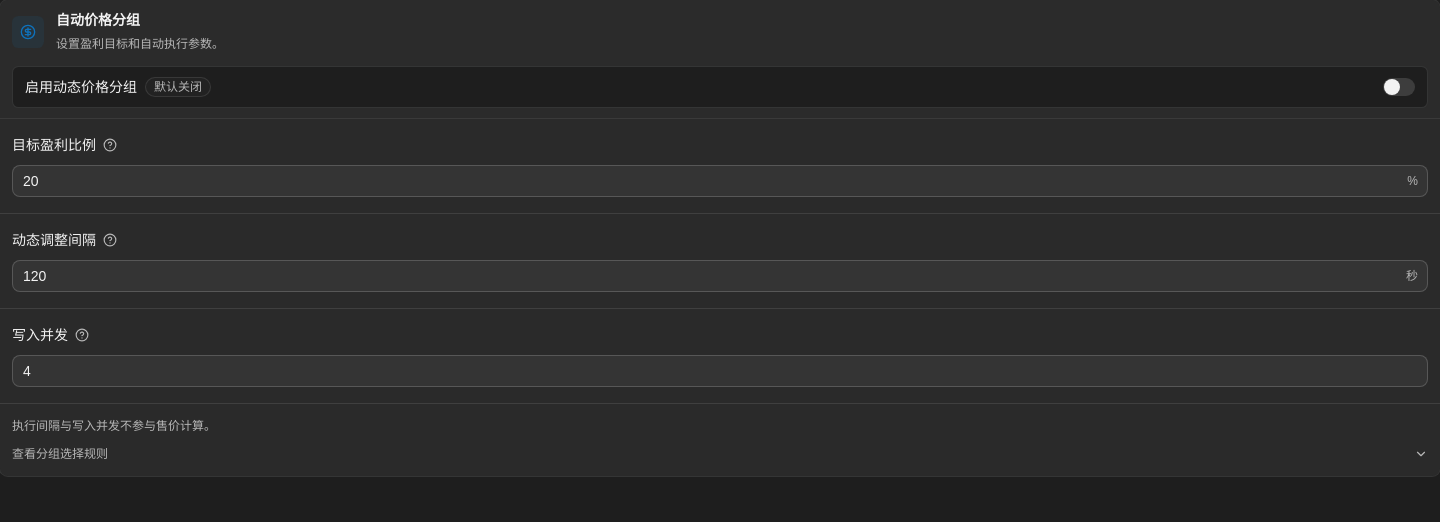
Test: 价格设置卡 › 详细规则默认折叠，点击展开后可读取亏损回退说明
The width and height of the screenshot is (1440, 522).
Click the heading "查看分组选择规则" at (60, 454), box x1=12 y1=444 x2=1428 y2=464
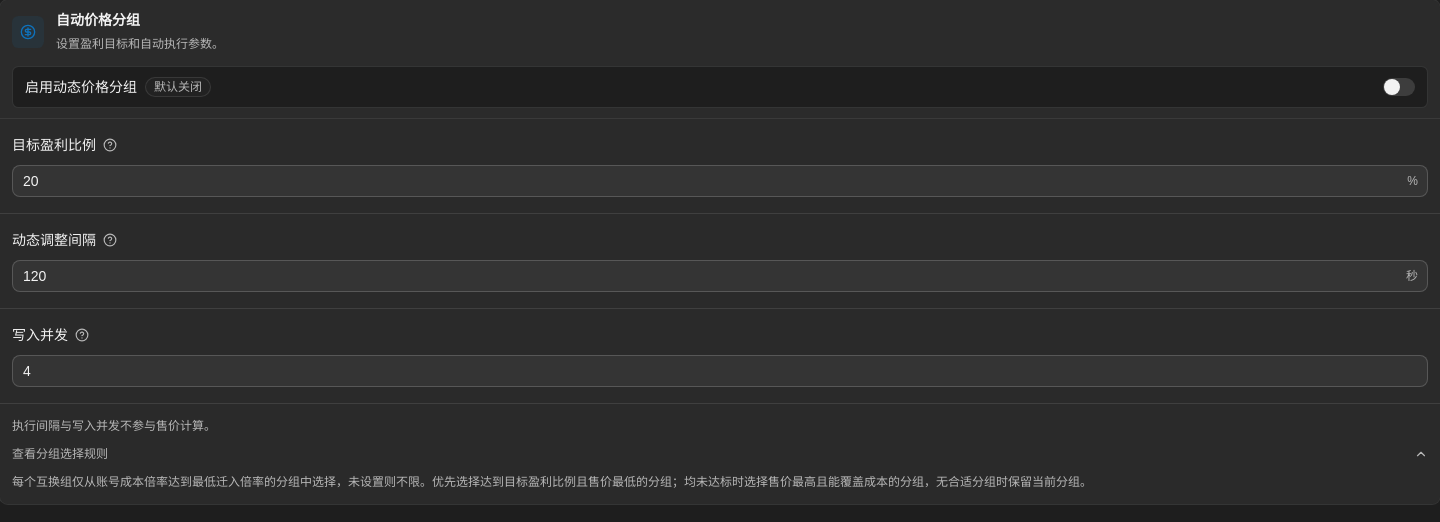
Check: the text "无合适分组时保留当前分组" is shown, box x1=12 y1=475 x2=1092 y2=489
